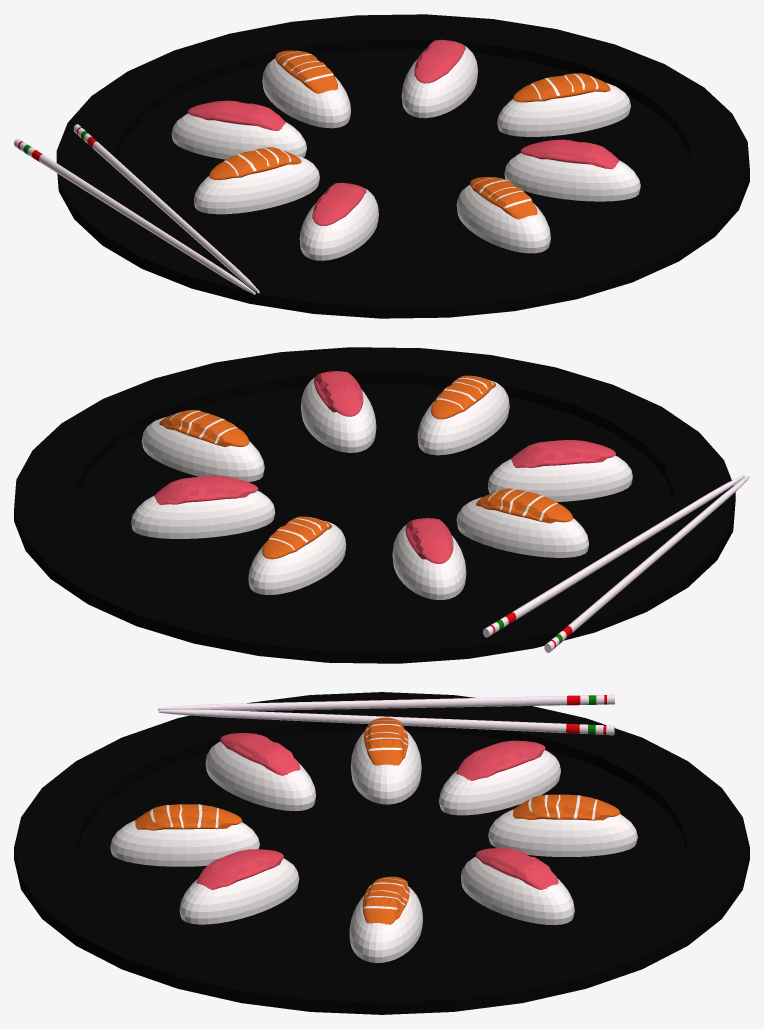
File: platoSushi.fbx
3 views of the same model, one above another, from view 1: azimuth 30°, elevation 25°; view 2: azimuth 150°, elevation 25°; view 3: azimuth 270°, elevation 25° (orthographic). The views are drawn at different scales.
Visible parts, largest first — view 1: plato, sushi.001, sushi, sushi.002, sushi.005, sushi.003, sushi.004, sushi.007, sushi.006, Cilindro, Cilindro.001, pescado.001 (+7 smaller); view 2: plato, sushi.006, sushi.002, sushi.007, sushi, sushi.004, sushi.003, sushi.001, sushi.005, Cilindro.001, pescado.006, pescado.007 (+7 smaller); view 3: plato, sushi.004, sushi.003, sushi.005, sushi.001, sushi.006, sushi.007, Cilindro, Cilindro.001, sushi, sushi.002, pescado.004 (+7 smaller).
Boxes of the visible parts, x1=… form: plato: x1=56, y1=14, x2=749, y2=318; sushi.001: x1=504, y1=153, x2=640, y2=201; sushi: x1=497, y1=83, x2=630, y2=136; sushi.002: x1=194, y1=155, x2=319, y2=214; sushi.005: x1=171, y1=113, x2=306, y2=159; sushi.003: x1=456, y1=185, x2=550, y2=253; sushi.004: x1=262, y1=58, x2=350, y2=128; sushi.007: x1=299, y1=189, x2=378, y2=260; sushi.006: x1=401, y1=46, x2=478, y2=118; Cilindro: x1=14, y1=138, x2=255, y2=294; Cilindro.001: x1=73, y1=124, x2=259, y2=293; pescado.001: x1=520, y1=139, x2=619, y2=169; plato: x1=14, y1=347, x2=735, y2=663; sushi.006: x1=131, y1=490, x2=275, y2=538; sushi.002: x1=456, y1=497, x2=588, y2=557; sushi.007: x1=488, y1=455, x2=632, y2=501; sushi: x1=141, y1=417, x2=264, y2=481; sushi.004: x1=248, y1=521, x2=346, y2=594; sushi.003: x1=417, y1=380, x2=509, y2=455; sushi.001: x1=301, y1=378, x2=376, y2=452; sushi.005: x1=392, y1=525, x2=466, y2=599; Cilindro.001: x1=483, y1=474, x2=744, y2=637; pescado.006: x1=154, y1=475, x2=258, y2=504; pescado.007: x1=510, y1=440, x2=615, y2=468; plato: x1=14, y1=692, x2=749, y2=1014; sushi.004: x1=488, y1=809, x2=637, y2=856; sushi.003: x1=110, y1=820, x2=259, y2=866; sushi.005: x1=439, y1=750, x2=560, y2=815; sushi.001: x1=179, y1=858, x2=299, y2=924; sushi.006: x1=461, y1=856, x2=574, y2=924; sushi.007: x1=205, y1=741, x2=315, y2=810; Cilindro: x1=158, y1=694, x2=614, y2=710; Cilindro.001: x1=158, y1=709, x2=614, y2=735; sushi: x1=349, y1=887, x2=422, y2=962; sushi.002: x1=350, y1=730, x2=421, y2=804; pescado.004: x1=512, y1=794, x2=620, y2=820.
Size of the model in its own units: 813 by 66.03 by 813.
